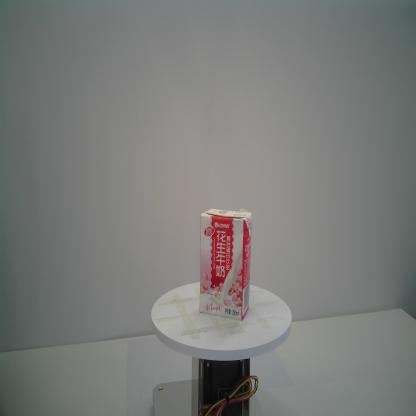Milk: (198, 208, 252, 321)
